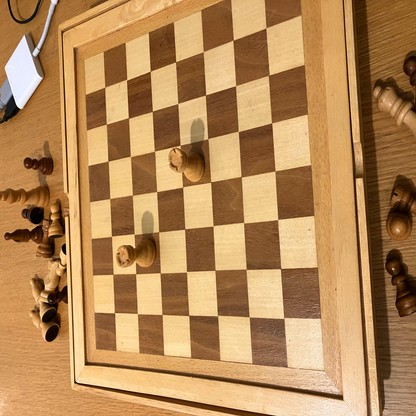bishop_black: (5, 227, 42, 244)
bishop_white: (31, 278, 61, 324), (30, 311, 60, 343)
king_white: (0, 186, 50, 203)
knight_white: (39, 259, 59, 303)
pawn_black: (386, 259, 416, 316), (24, 157, 53, 174), (22, 208, 43, 223)
pawn_white: (386, 206, 413, 241), (49, 201, 63, 237), (57, 250, 68, 277)
queen_white: (373, 82, 416, 136)
rock_white: (117, 237, 155, 269), (169, 150, 207, 180)
